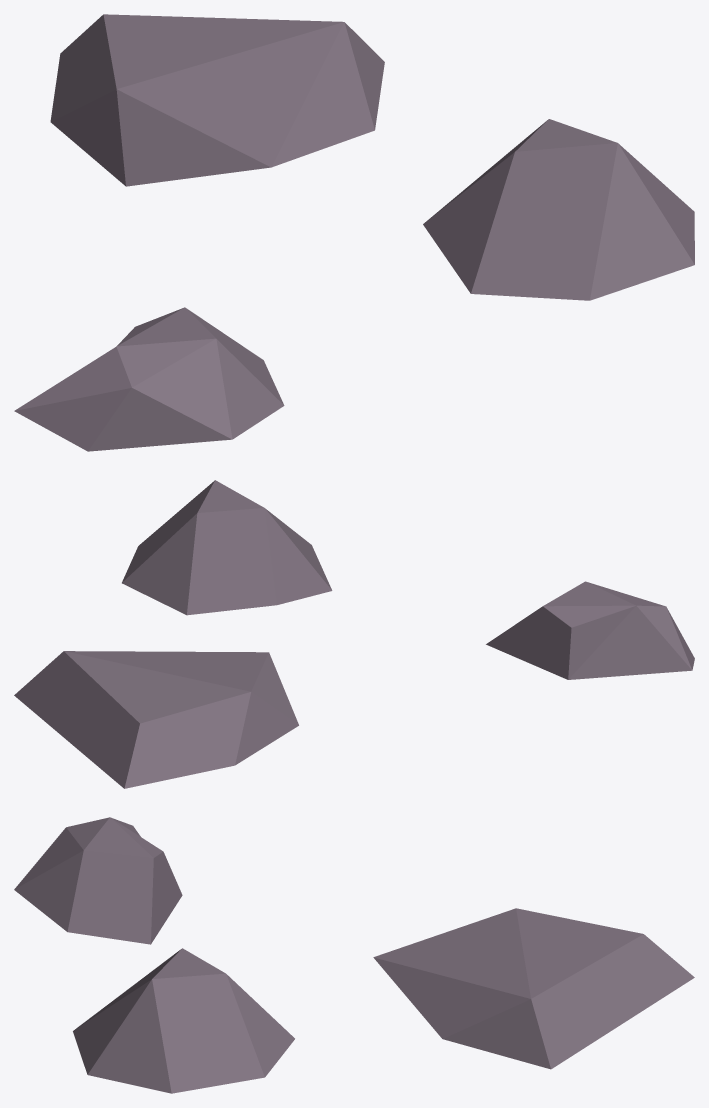
File: Small_stone_v05.fbx
3 renders of one model, top to bottom at view 1: azimuth 30°, elevation 25°; view 2: azimuth 150°, elevation 25°; view 3: azimuth 270°, elevation 25°, orthographic. The views are drawn at different scales.
Visible parts, largest first — view 1: Small_stone_v05; view 2: Small_stone_v05; view 3: Small_stone_v05.
Part boxes in pixels (bbox=[...]): Small_stone_v05: bbox=[14, 14, 694, 451]; Small_stone_v05: bbox=[14, 480, 694, 788]; Small_stone_v05: bbox=[14, 817, 694, 1093].
Bounding box in the file's own units: 37.03 × 6.59 × 38.65.
Materials: 1 (1 with a texture image).
